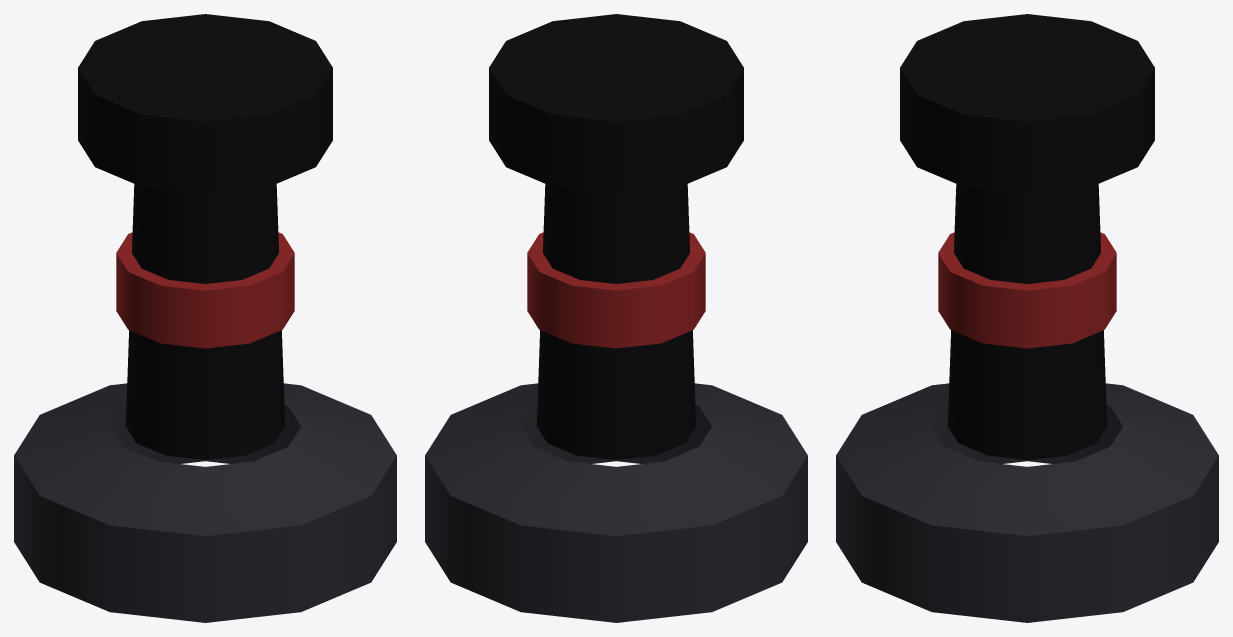
Rendered from t1_antenna.obj.
The picture shows the model from 3 angles, left to right: view 1: azimuth 30°, elevation 25°; view 2: azimuth 150°, elevation 25°; view 3: azimuth 270°, elevation 25°; orthographic projection.
Visible parts, largest first — view 1: t1_antenna; view 2: t1_antenna; view 3: t1_antenna.
Part boxes in pixels (x1=…): t1_antenna: x1=14, y1=14, x2=396, y2=622; t1_antenna: x1=425, y1=14, x2=807, y2=622; t1_antenna: x1=836, y1=14, x2=1218, y2=622.
Bounding box in the file's own units: 0.12 × 0.164 × 0.12.
